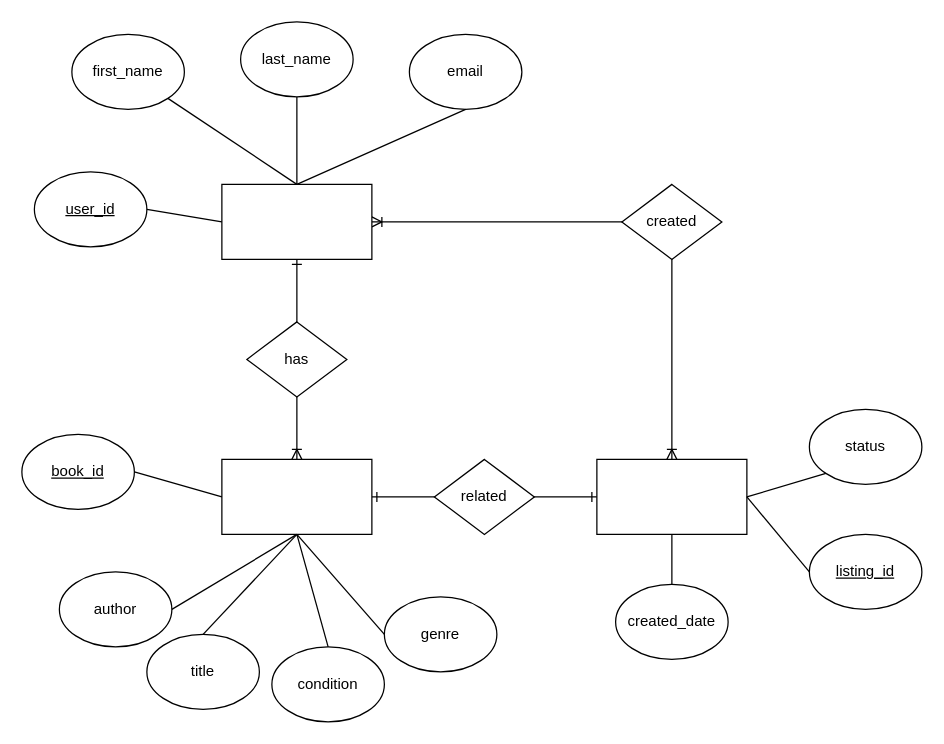
The diagram is 944 pixels wide and 744 high, and some of its shapes have lost their labels. The box of each missing label's shape, as (x1, y1, x2, y2) in pixels:
Book: (221, 458, 372, 534)
Listing: (596, 458, 747, 534)
User: (221, 183, 372, 259)
